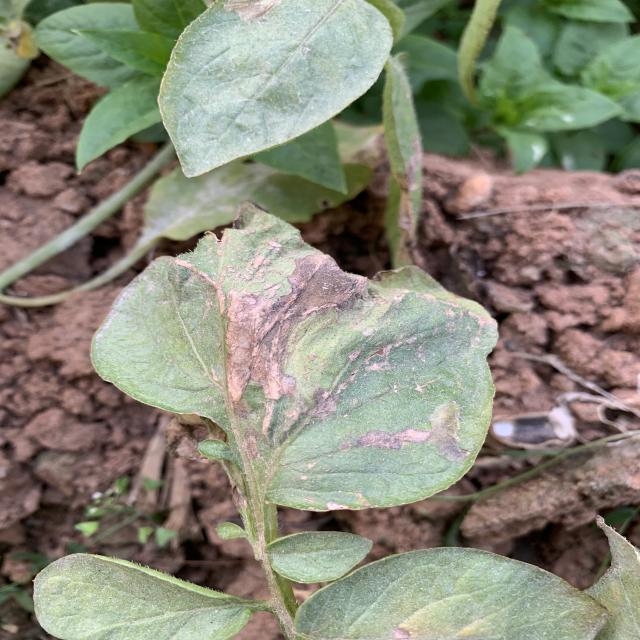lateblight: (173, 228, 365, 405), (357, 401, 470, 461)
